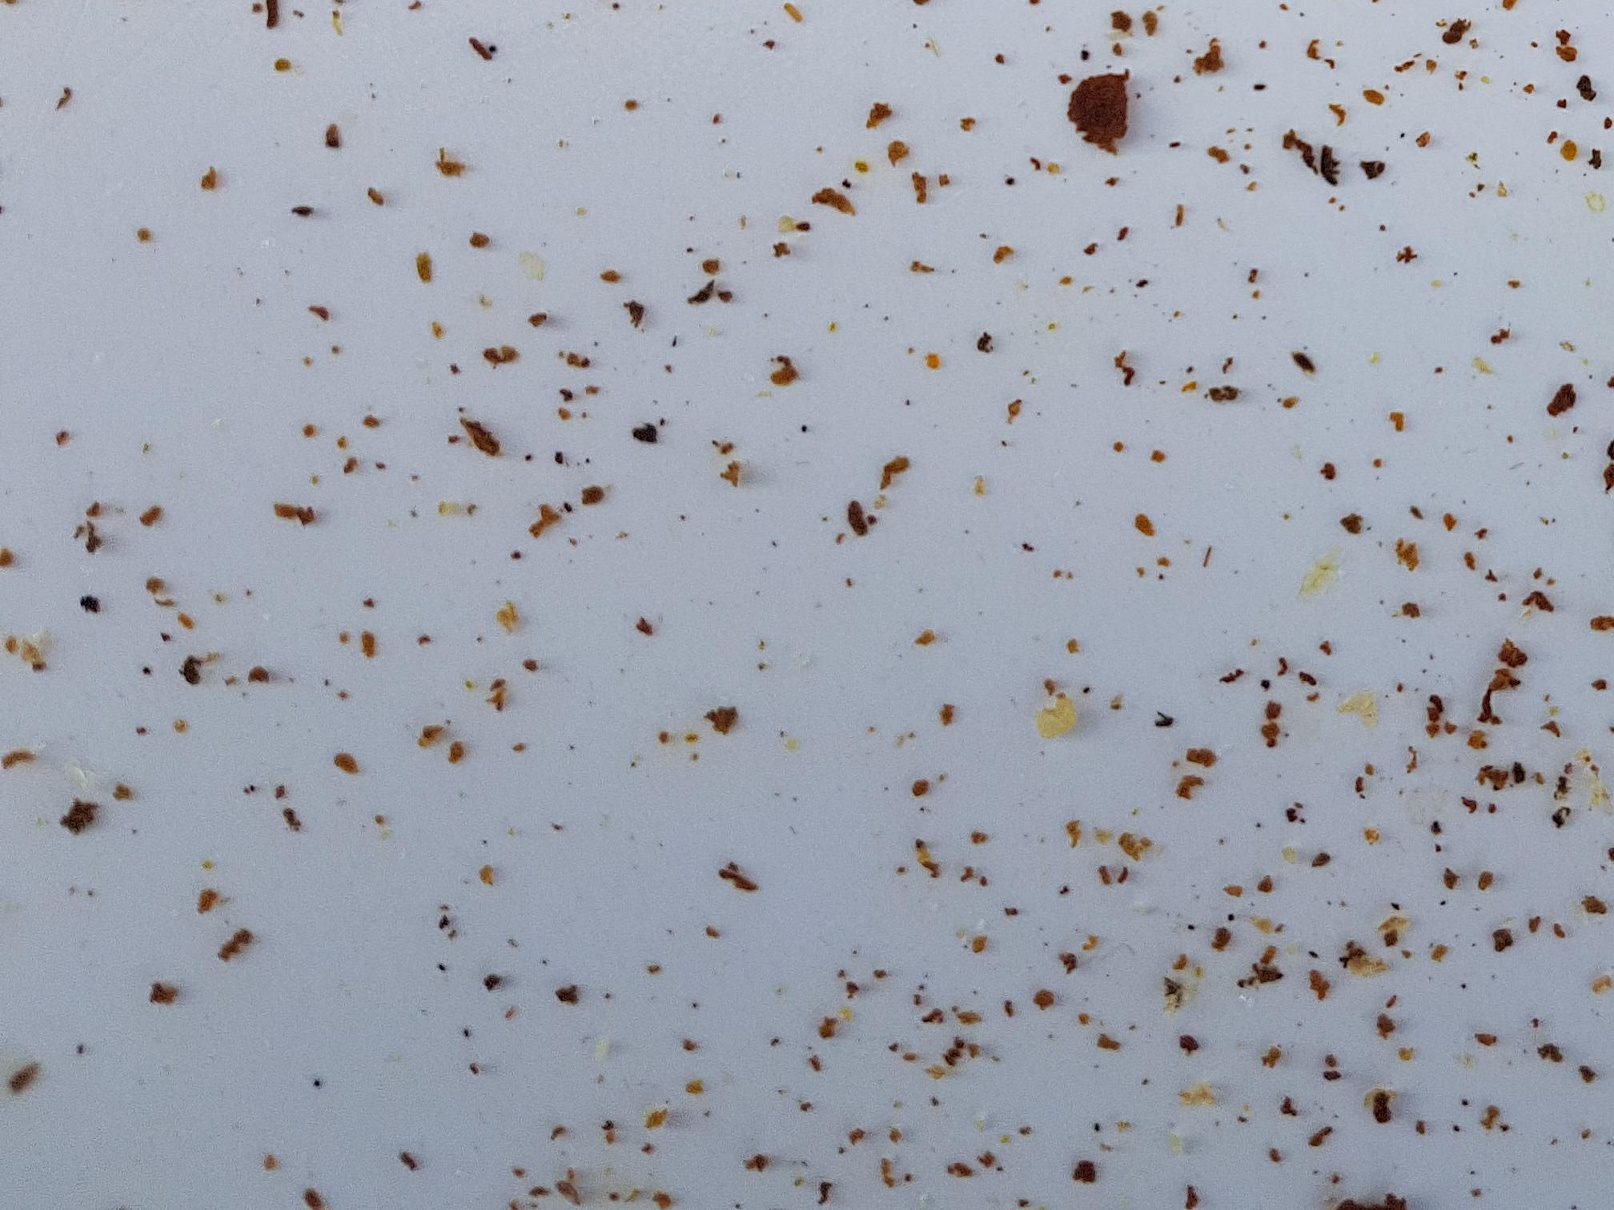Varroa: (172, 653, 211, 691)
